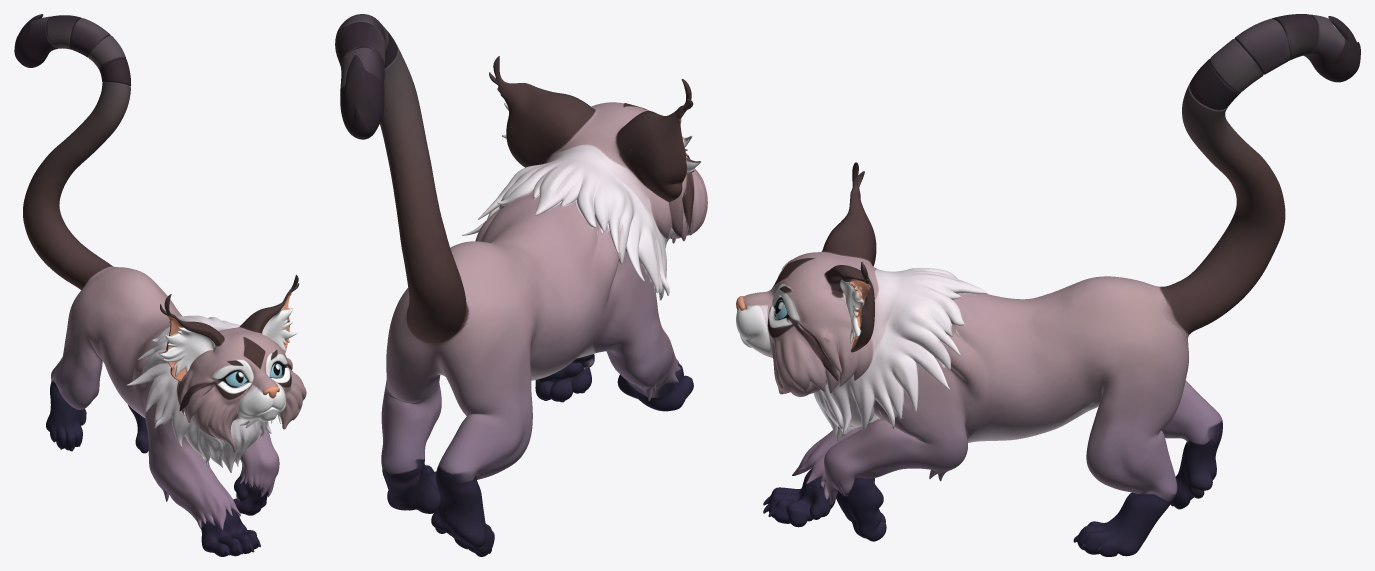
Rendered from Meshy_AI_Whiskerlynx_1016090526_texture.fbx.
3 renders of one model, left to right at view 1: azimuth 30°, elevation 25°; view 2: azimuth 150°, elevation 25°; view 3: azimuth 270°, elevation 25°, orthographic. The views are drawn at different scales.
Parts seen in each view (by area): view 1: Mesh_0; view 2: Mesh_0; view 3: Mesh_0.
Boxes of the visible parts, x1=… form: Mesh_0: x1=14, y1=14, x2=306, y2=556; Mesh_0: x1=335, y1=14, x2=707, y2=556; Mesh_0: x1=736, y1=14, x2=1360, y2=556.
Bounding box in the file's own units: 67.21 × 173 × 190.
1 material, 1 textured.
